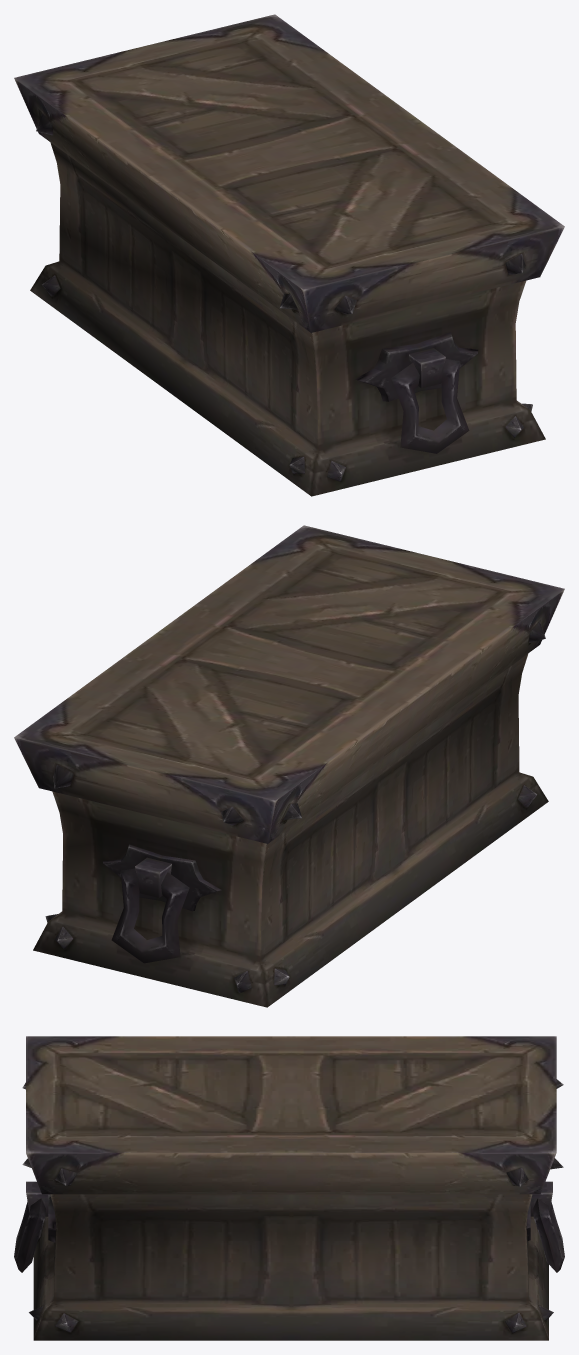
3 renders of one model, top to bottom at view 1: azimuth 30°, elevation 25°; view 2: azimuth 150°, elevation 25°; view 3: azimuth 270°, elevation 25°, orthographic. The views are drawn at different scales.
Size of the model in its own units: 2.4 by 1.79 by 4.59.
Materials: 1 (1 with a texture image).
